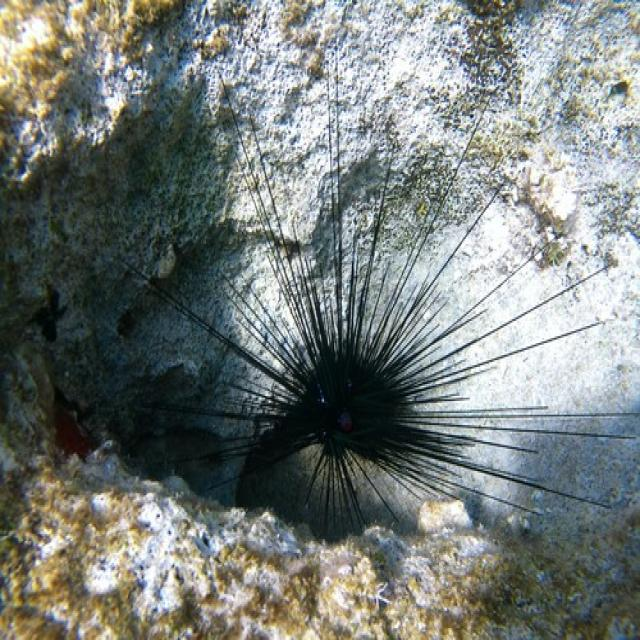Urchin: (117, 55, 636, 541)
